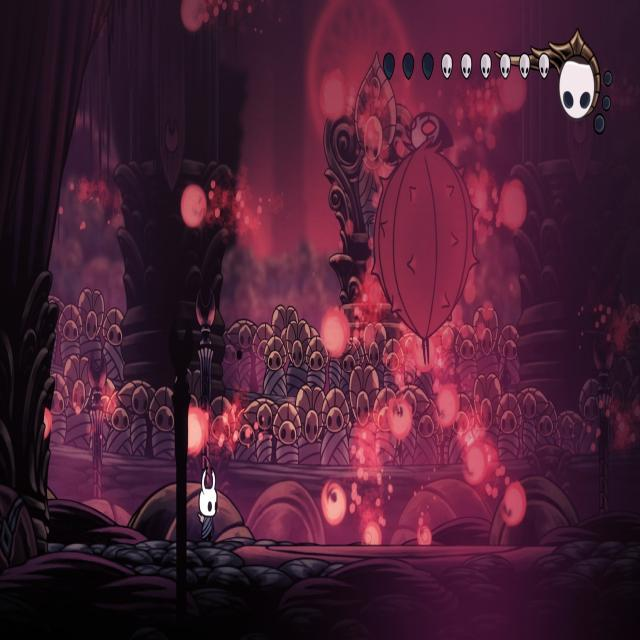Player: (195, 461, 220, 544)
Pufferfish: (370, 107, 484, 379)
Tiny Fireballs: (498, 180, 528, 232), (321, 310, 350, 360), (320, 73, 347, 122), (464, 438, 491, 486), (322, 479, 348, 524), (179, 184, 205, 228), (504, 479, 526, 530), (185, 407, 208, 454), (435, 383, 459, 428), (387, 397, 411, 440), (180, 0, 205, 32), (362, 522, 379, 546), (42, 406, 52, 440)
